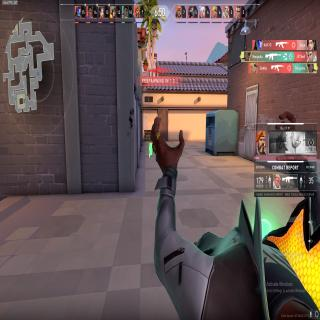ENEMY-HEAD: (156, 114, 158, 118)
